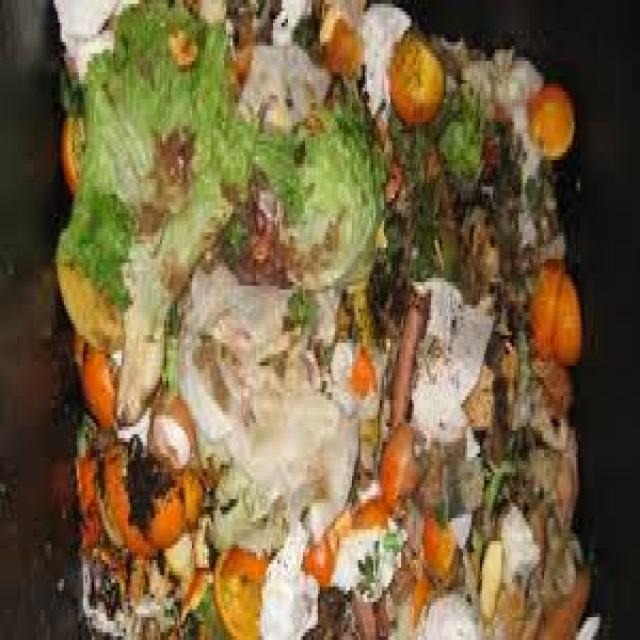Organic: (49, 0, 603, 640)
